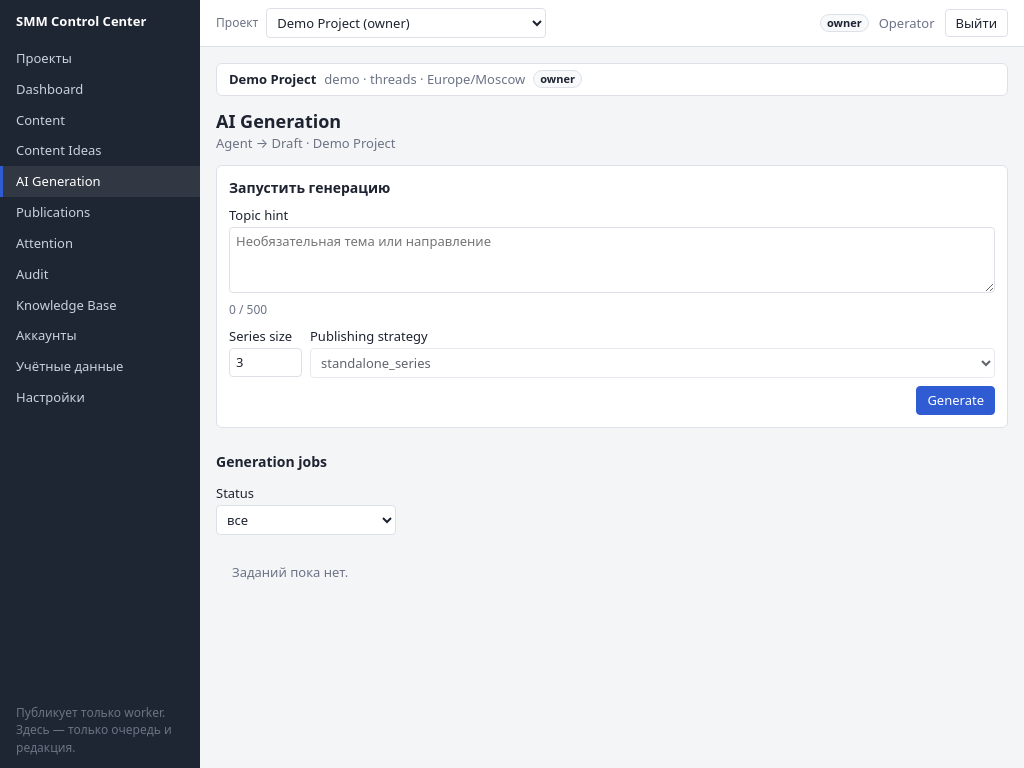
Test: generation jobs page › shows backend validation details without retrying create
This screenshot has width=1024, height=768.
Click the button "Generate" at [956, 400], box [916,386,995,414]
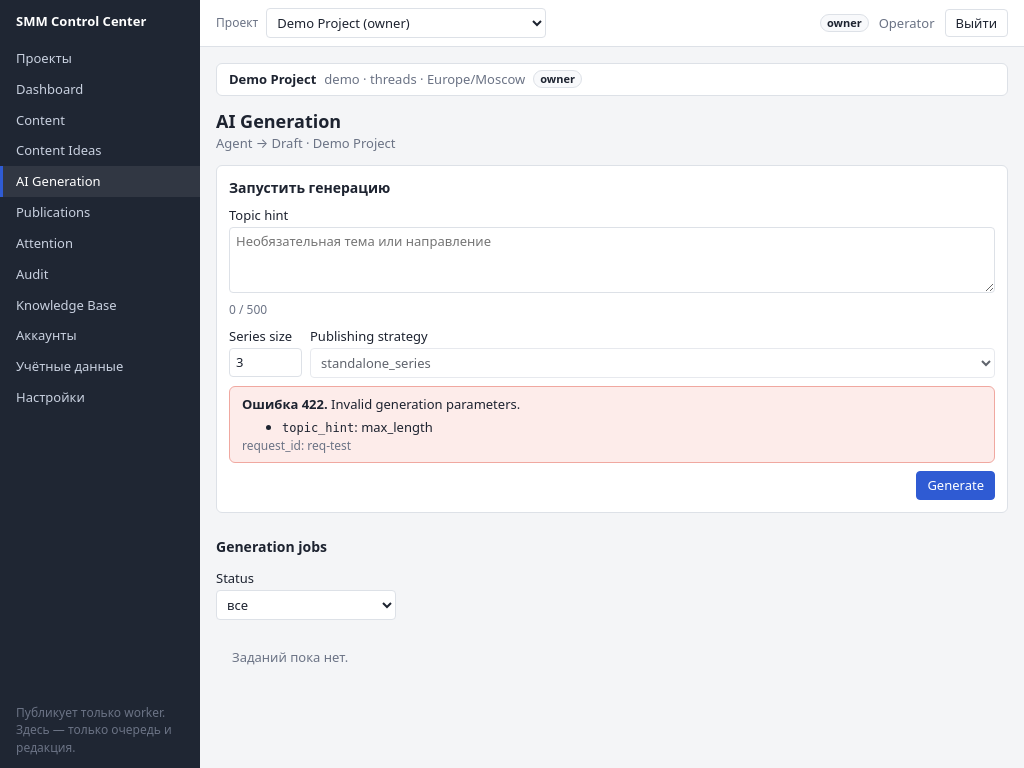
expect the text "topic_hint" is shown: met, box [282,420,354,434]
expect the list item "topic_hint: max_length" is shown: met, box [282,418,433,436]
